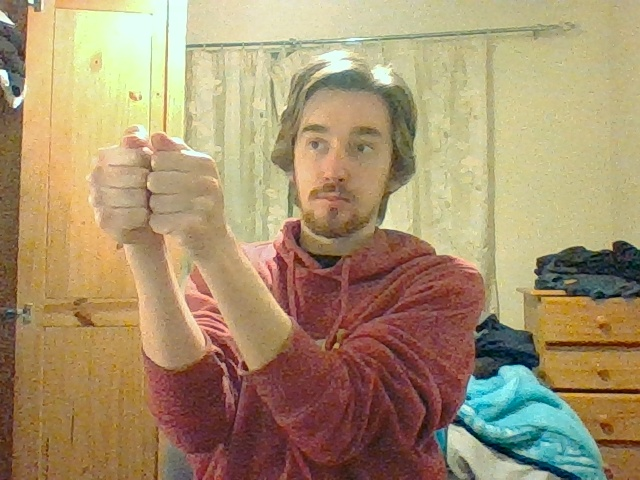brother: (88, 124, 225, 245)
